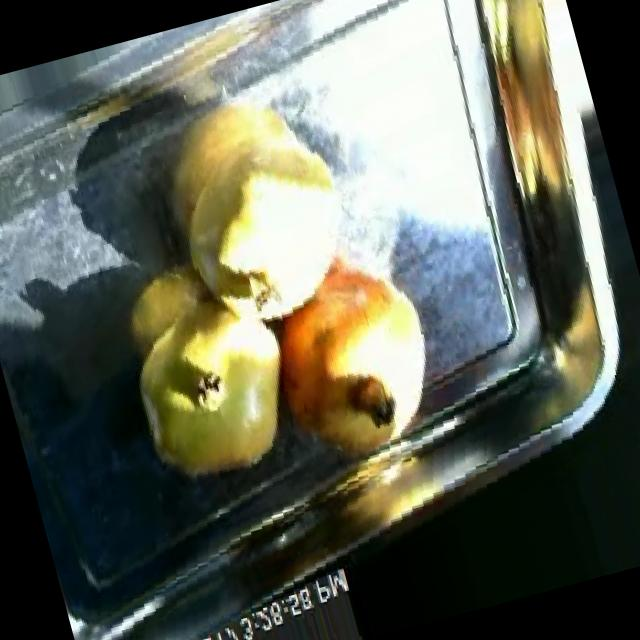fruit: (128, 49, 392, 353), (234, 232, 476, 490), (101, 268, 328, 518)
